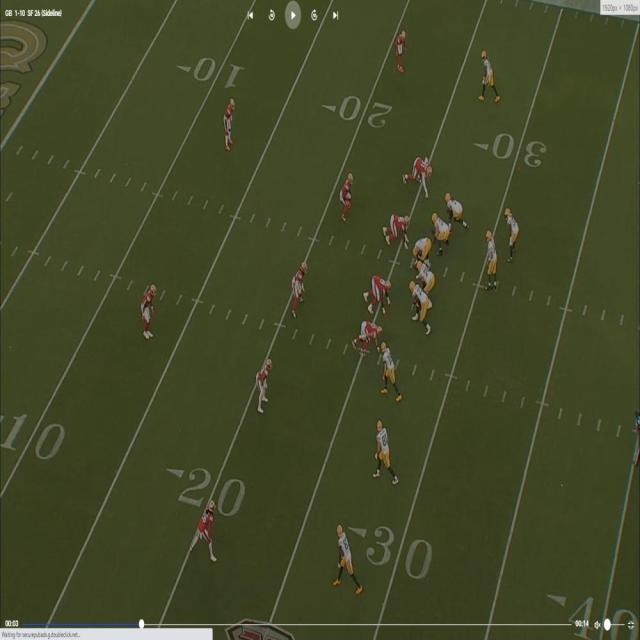center: (414, 234, 433, 262)
db: (141, 287, 154, 337), (226, 97, 236, 146), (397, 32, 408, 72)
lb: (256, 359, 270, 412), (295, 263, 306, 313), (342, 176, 353, 223)
qb: (484, 230, 498, 288)
skill: (338, 526, 359, 584), (196, 503, 217, 553), (377, 424, 395, 482), (382, 344, 398, 396), (480, 55, 497, 102), (506, 210, 519, 256)
